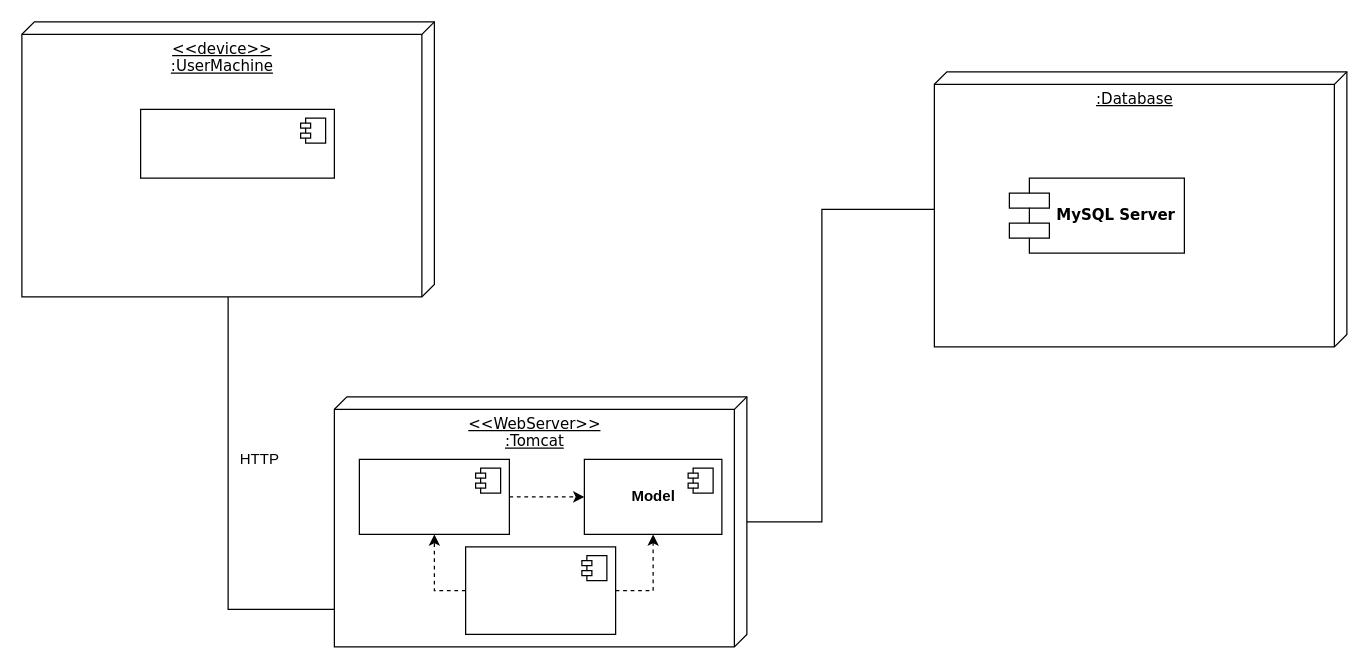
This 1369x669 diagram has some shape labels left out. Each missing label, with the centre of its shape:
"Controller" belongs at point (540, 590).
"View" belongs at point (433, 496).
"Web Browser" belongs at point (236, 143).
